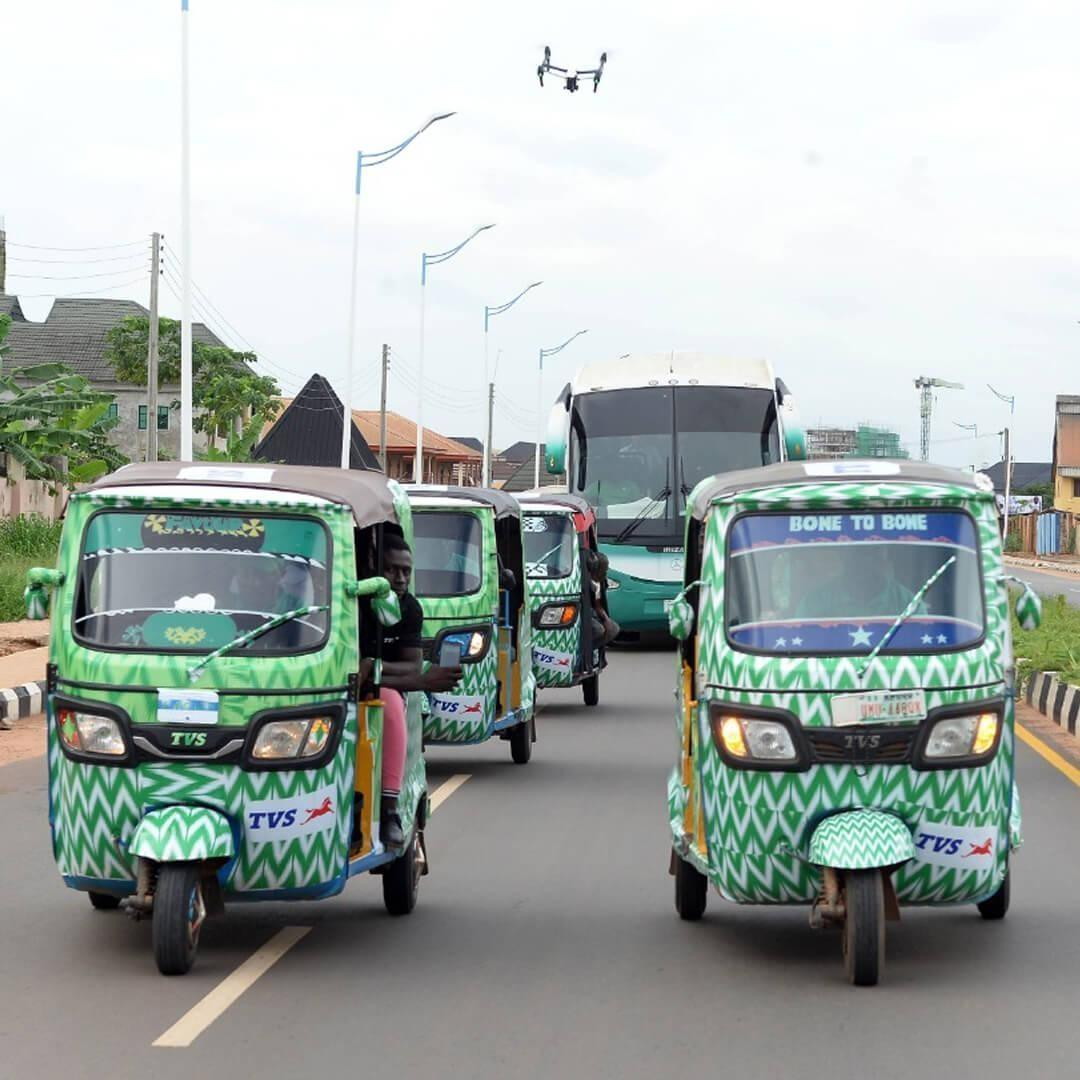keke: (48, 457, 442, 989), (660, 447, 1021, 998), (408, 479, 532, 788)
